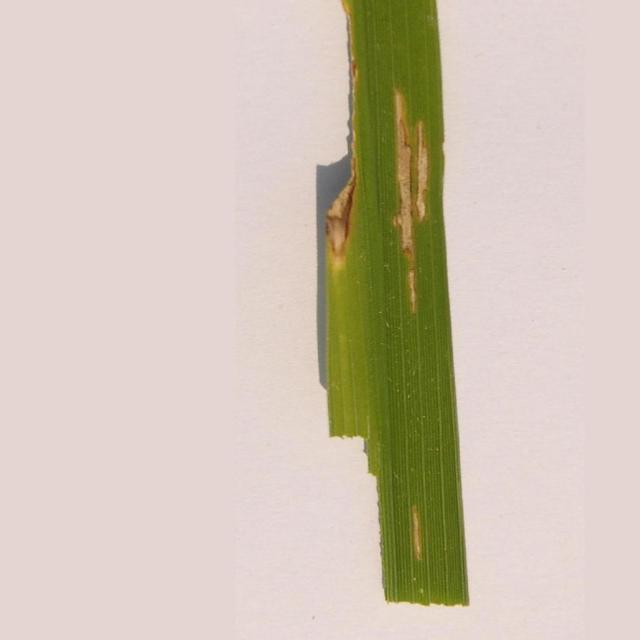leaf blight: (322, 1, 450, 310)
